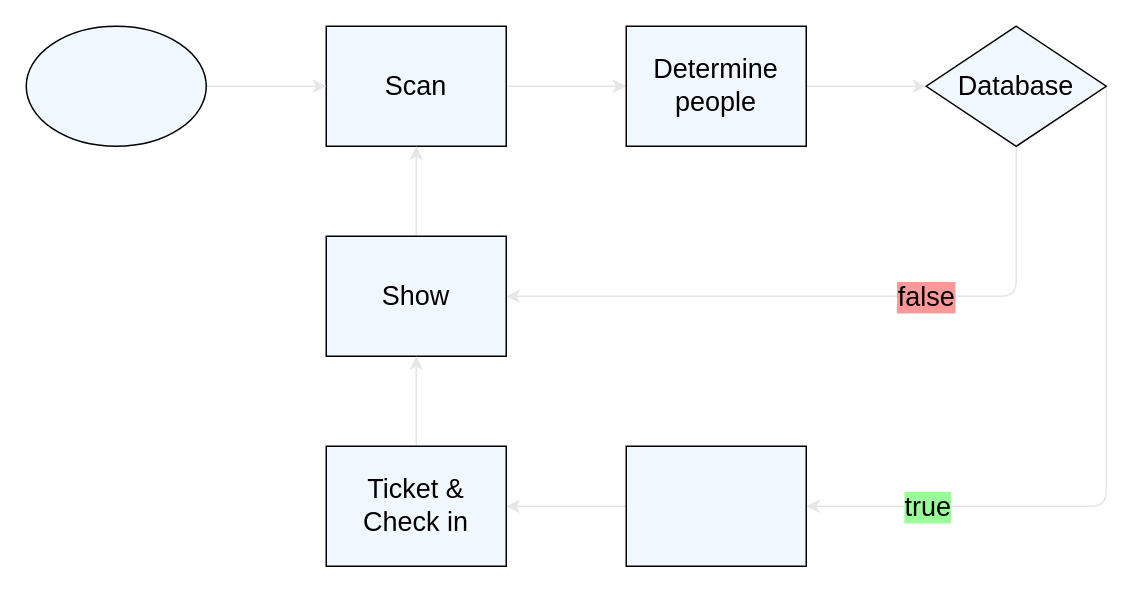
This 1145x593 diagram has some shape labels left out. The shapes that lost their labels are listed below. From the top down, each one's box as (x1, y1, x2, y2) in pixels, then its label:
(25, 25, 206, 146): Start
(625, 445, 806, 566): Health Code & Color
